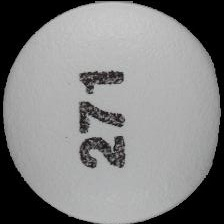42291-634: (0, 0, 224, 224)
